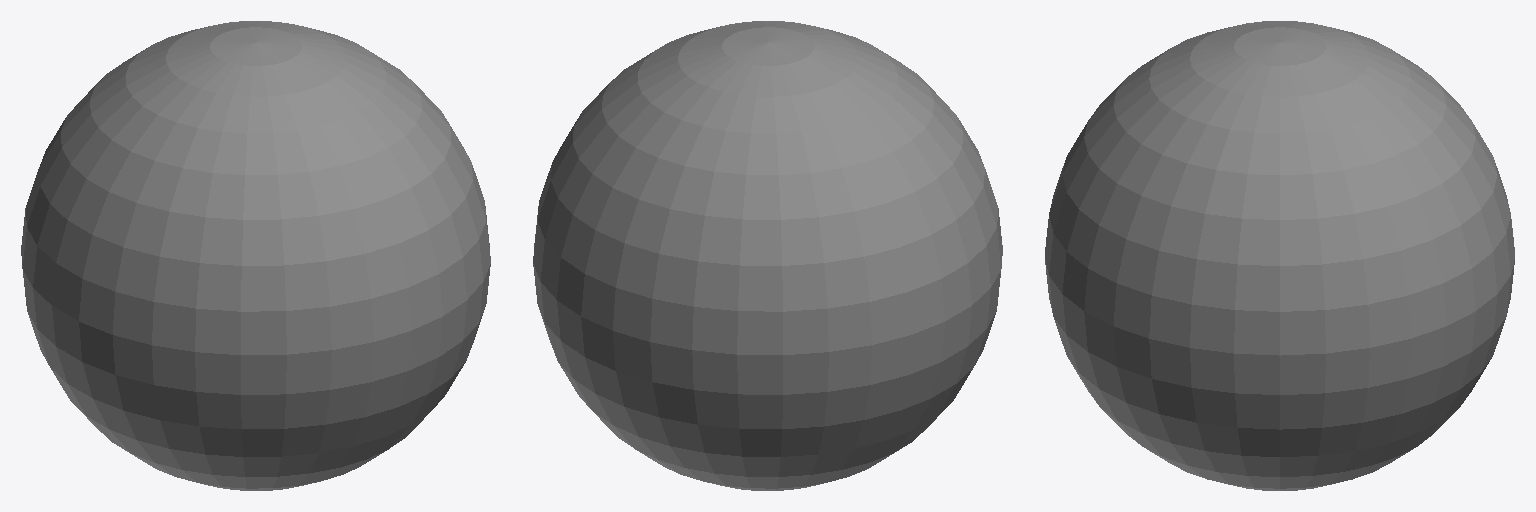
The model's file is pelota.obj.
3 views of the same model, side by side, from view 1: azimuth 30°, elevation 25°; view 2: azimuth 150°, elevation 25°; view 3: azimuth 270°, elevation 25° (orthographic).
Visible parts, largest first — view 1: Sphere001; view 2: Sphere001; view 3: Sphere001.
Part boxes in pixels (x1,y1,x2,y2): Sphere001: (21, 21, 490, 490); Sphere001: (533, 21, 1002, 490); Sphere001: (1045, 21, 1514, 490).
Bounding box in the file's own units: 19.41 × 19.41 × 19.41.